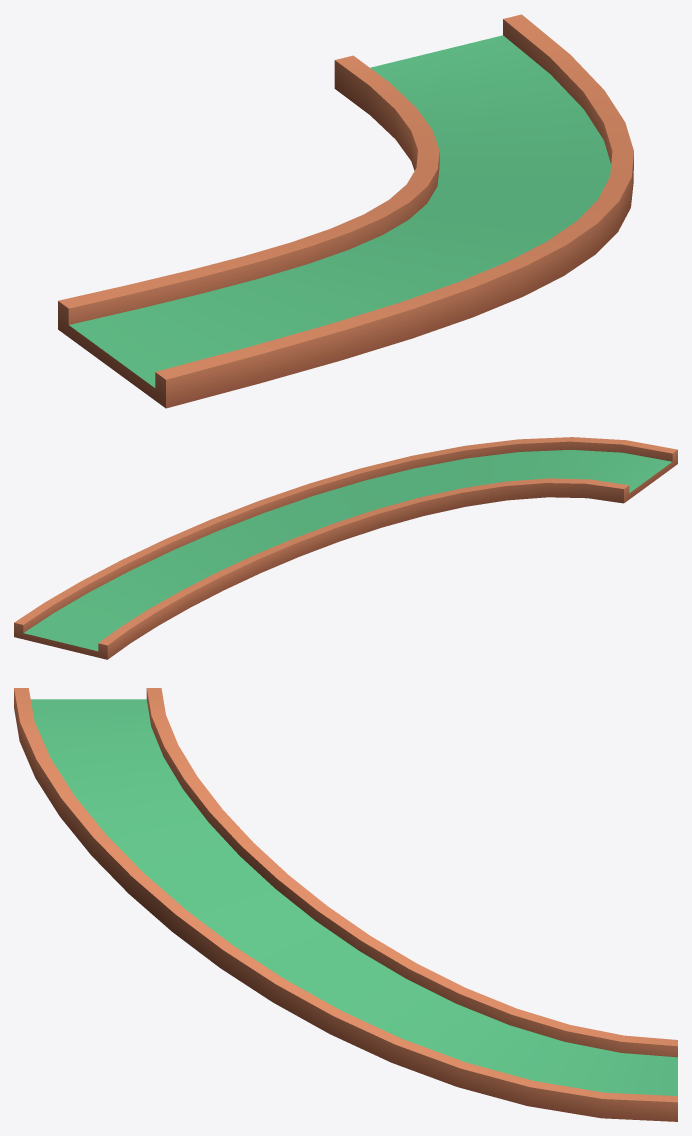
The model's file is spline-default-corner-large-ramp.glb.
3 renders of one model, top to bottom at view 1: azimuth 30°, elevation 25°; view 2: azimuth 150°, elevation 25°; view 3: azimuth 270°, elevation 25°, orthographic. The views are drawn at different scales.
Parts seen in each view (by area): view 1: spline-default-corner-large-ramp; view 2: spline-default-corner-large-ramp; view 3: spline-default-corner-large-ramp.
Part boxes in pixels (bbox=[...]): spline-default-corner-large-ramp: bbox=[58, 14, 633, 408]; spline-default-corner-large-ramp: bbox=[14, 437, 677, 659]; spline-default-corner-large-ramp: bbox=[14, 688, 677, 1121].
Size of the model in its own units: 4.5 by 1.15 by 4.5.
Materials: 1 (1 with a texture image).
